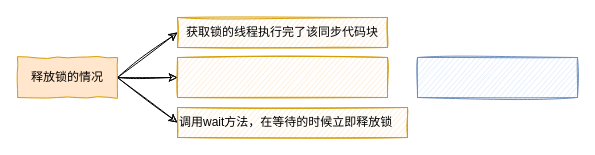
The diagram is 595 pixels wide and 155 high, and some of its shapes have lost their labels. The centre of each missing label's shape, as x and y in pixels:
"注意：调用Thread#suspend挂起线程是 不会释放锁 的" belongs at point 497,77.
"线程执行 发生异常 ，此时JVM会让线程自动释放锁" belongs at point 282,77.
